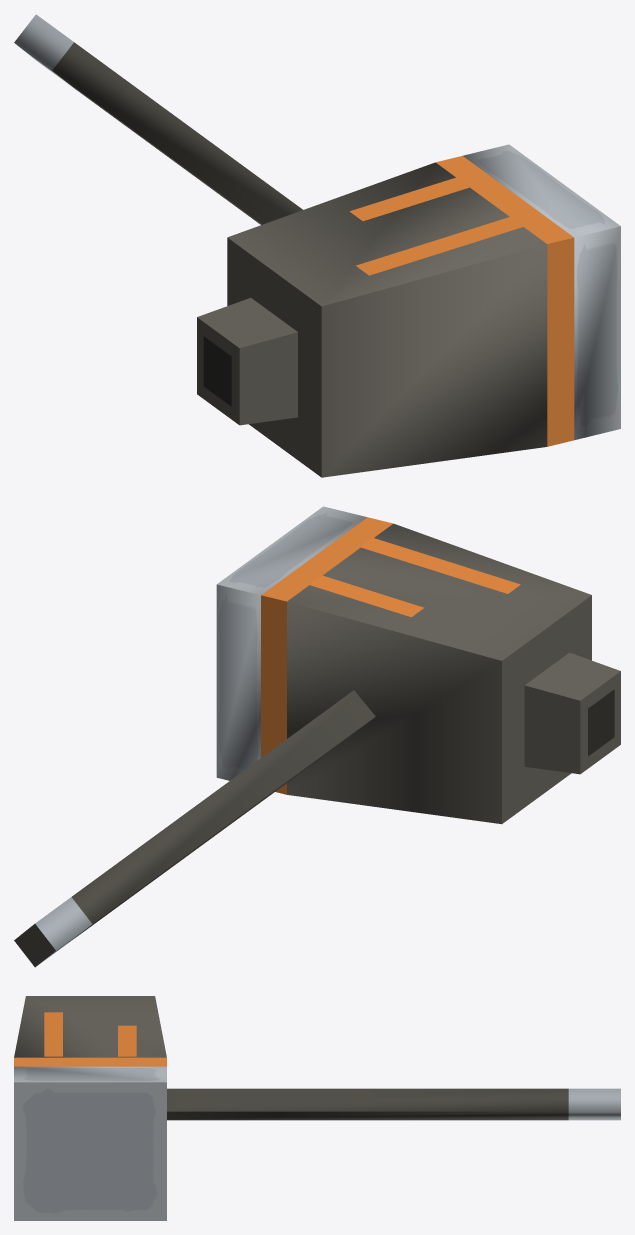
Rendered from Army2_dao1.FBX.
The picture shows the model from 3 angles, top to bottom: view 1: azimuth 30°, elevation 25°; view 2: azimuth 150°, elevation 25°; view 3: azimuth 270°, elevation 25°; orthographic projection. The views are drawn at different scales.
Visible parts, largest first — view 1: Army2_dao1; view 2: Army2_dao1; view 3: Army2_dao1.
Boxes of the visible parts, bbox=[...] form: Army2_dao1: bbox=[14, 14, 620, 477]; Army2_dao1: bbox=[14, 506, 620, 967]; Army2_dao1: bbox=[14, 996, 620, 1220].
Size of the model in its own units: 19.42 by 42.93 by 10.99.
